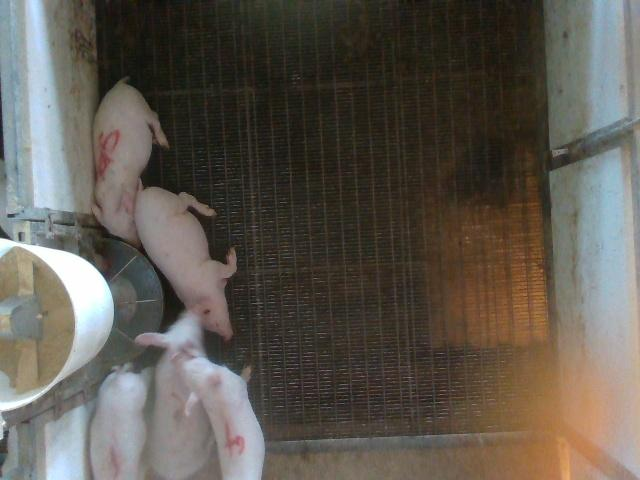pig-1: (90, 364, 148, 479)
pig-3: (135, 311, 214, 479)
pig-4: (172, 351, 264, 478)
pig-5: (92, 78, 169, 246)
